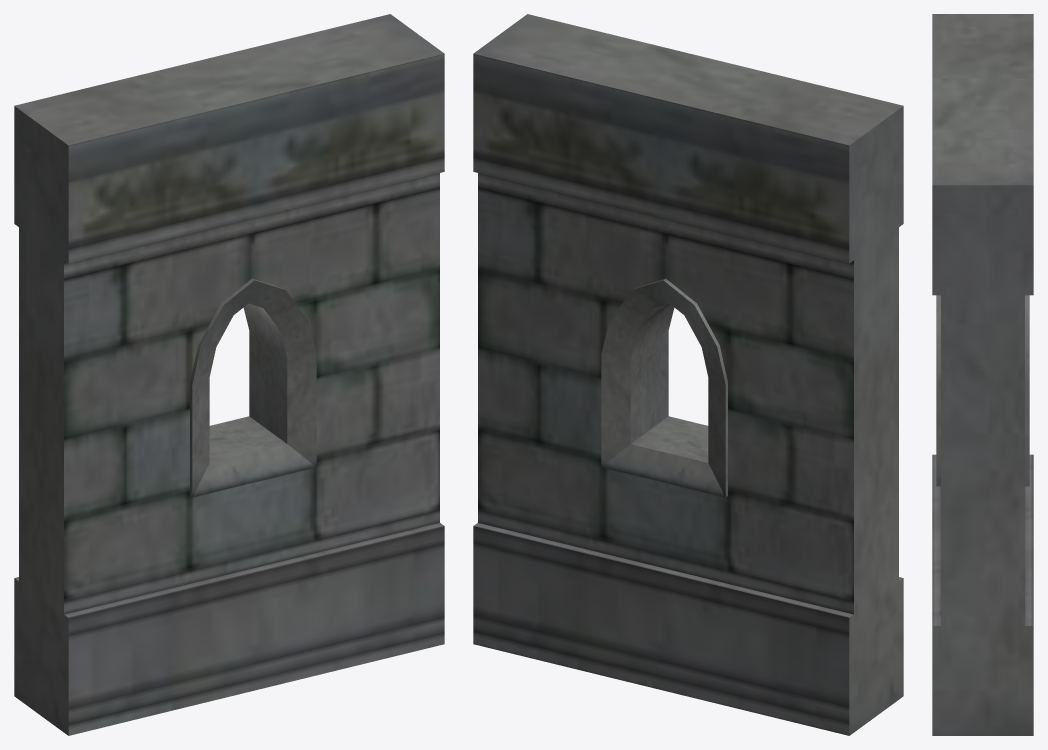
The model's file is sd_wall_small_02.glb.
3 renders of one model, left to right at view 1: azimuth 30°, elevation 25°; view 2: azimuth 150°, elevation 25°; view 3: azimuth 270°, elevation 25°, orthographic. The views are drawn at different scales.
Visible parts, largest first — view 1: wall_small_02; view 2: wall_small_02; view 3: wall_small_02.
Part boxes in pixels (<box>): wall_small_02: <box>14,14,444,735</box>; wall_small_02: <box>473,14,903,735</box>; wall_small_02: <box>932,14,1033,735</box>.
Bounding box in the file's own units: 2 × 3 × 0.4999.
Materials: 1 (1 with a texture image).
